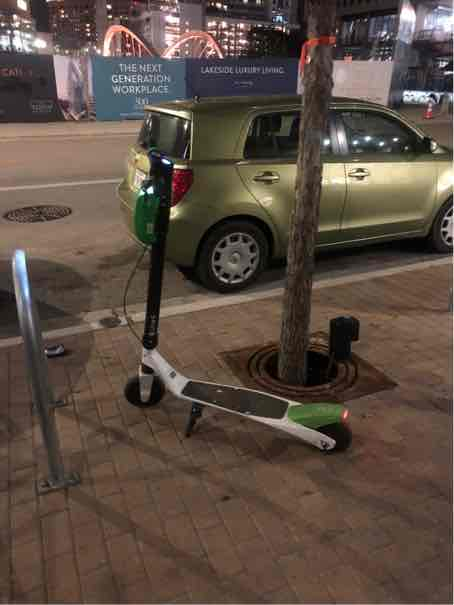scooter: (103, 129, 362, 454)
